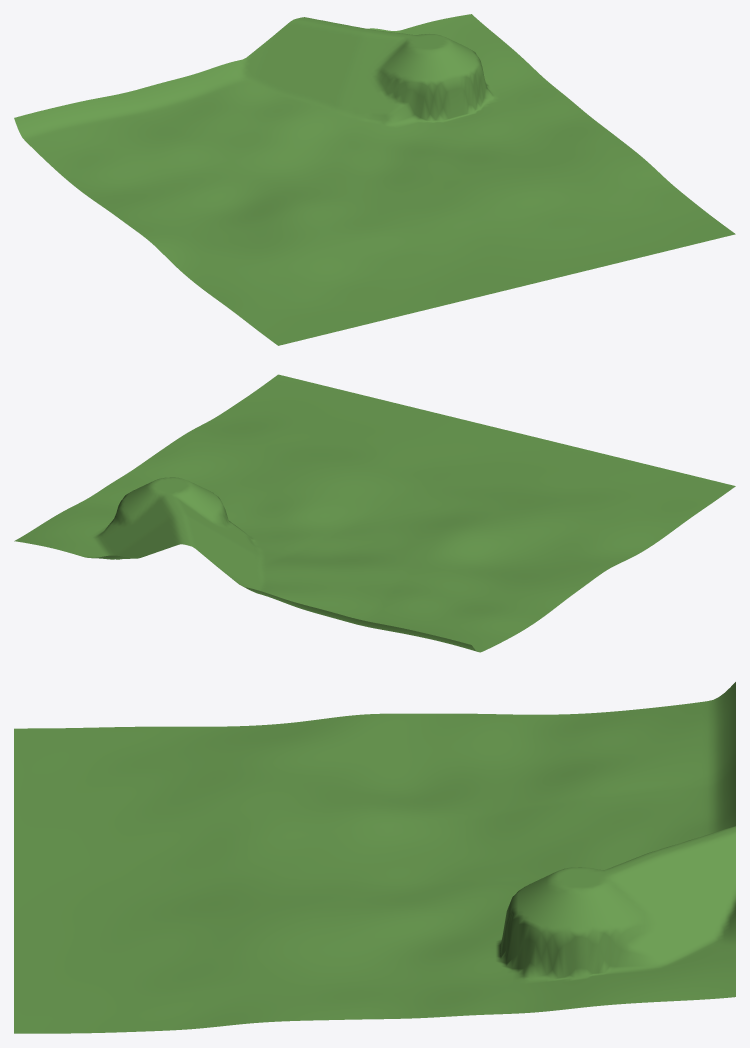
The model's file is SM_Terrain_04_07.fbx.
The picture shows the model from 3 angles, top to bottom: view 1: azimuth 30°, elevation 25°; view 2: azimuth 150°, elevation 25°; view 3: azimuth 270°, elevation 25°; orthographic projection. The views are drawn at different scales.
Visible parts, largest first — view 1: SM_Terrain_04_07; view 2: SM_Terrain_04_07; view 3: SM_Terrain_04_07.
Boxes of the visible parts, x1,y1,x2,y2 form: SM_Terrain_04_07: [14, 14, 735, 345]; SM_Terrain_04_07: [14, 374, 735, 652]; SM_Terrain_04_07: [14, 682, 735, 1033].
Size of the model in its own units: 384 by 52.16 by 384.
